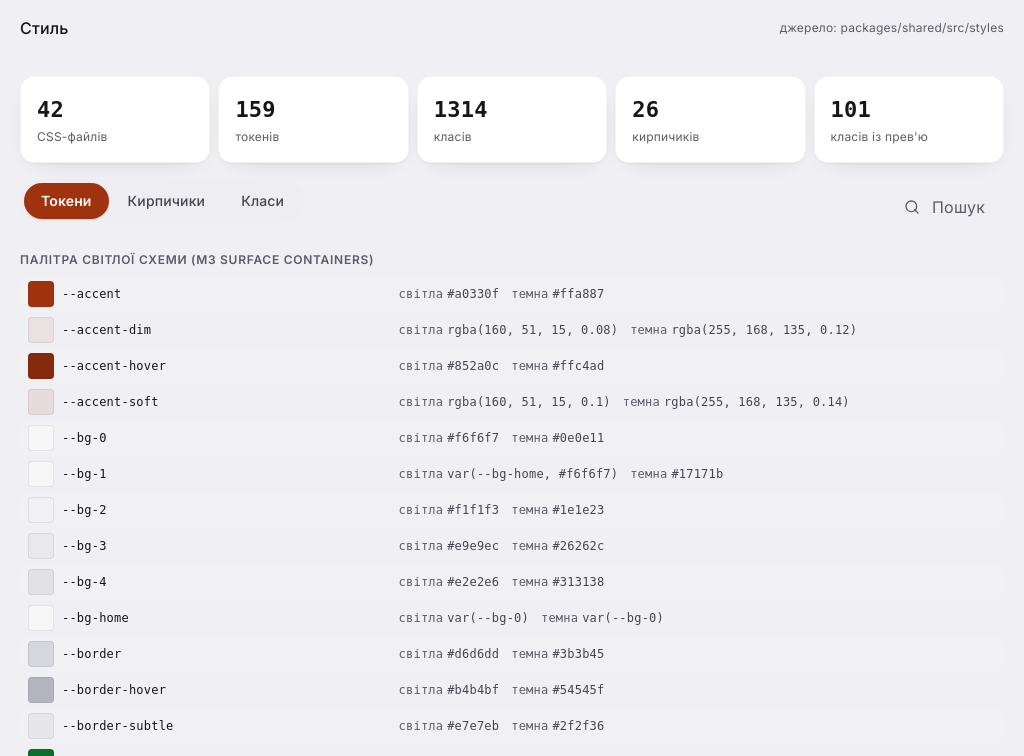
Test: сторінка «Стиль» › пошук звужує всі три списки
Check: the text "токенів" is shown, box [235,129,279,144]
Note: `--sp-4` є токеном і не є частиною жодного класу.
Type "--sp-4" into the search field named "Пошук по інвентарю вигляду". click: [964, 207]
box: [924,195,1004,219]
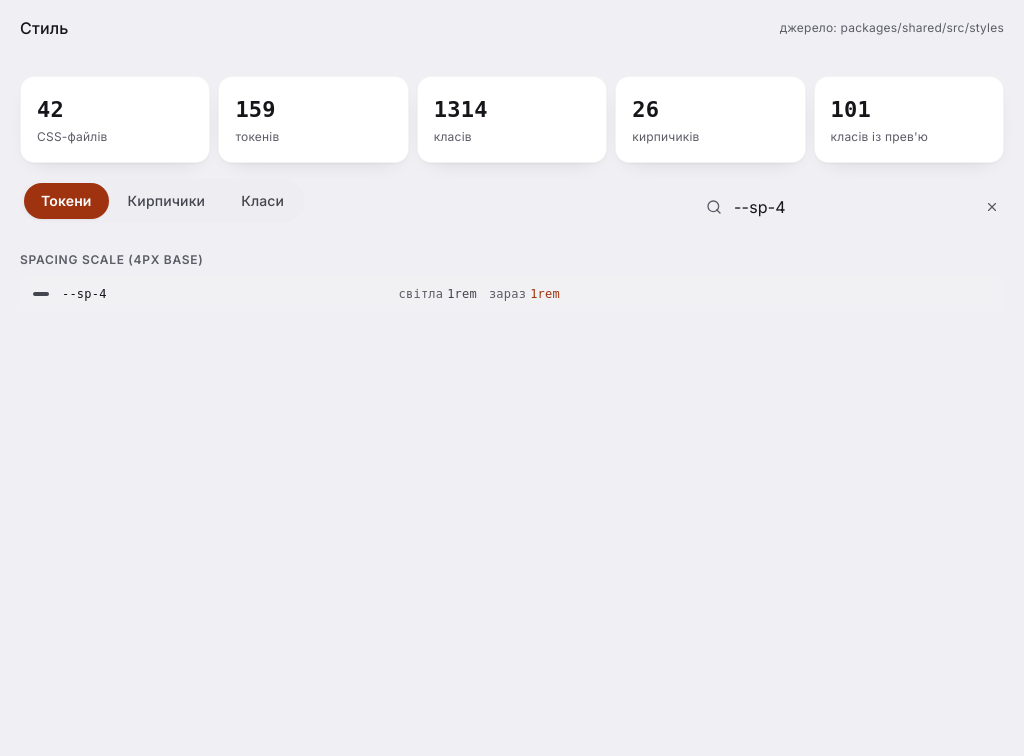
Check: the text "--sp-4" is shown, box [62,287,107,301]
Note: У класах такого імені немає — список порожній, а не весь.
Click the tab "Класи". click: [263, 201]
box: [224,183,301,219]
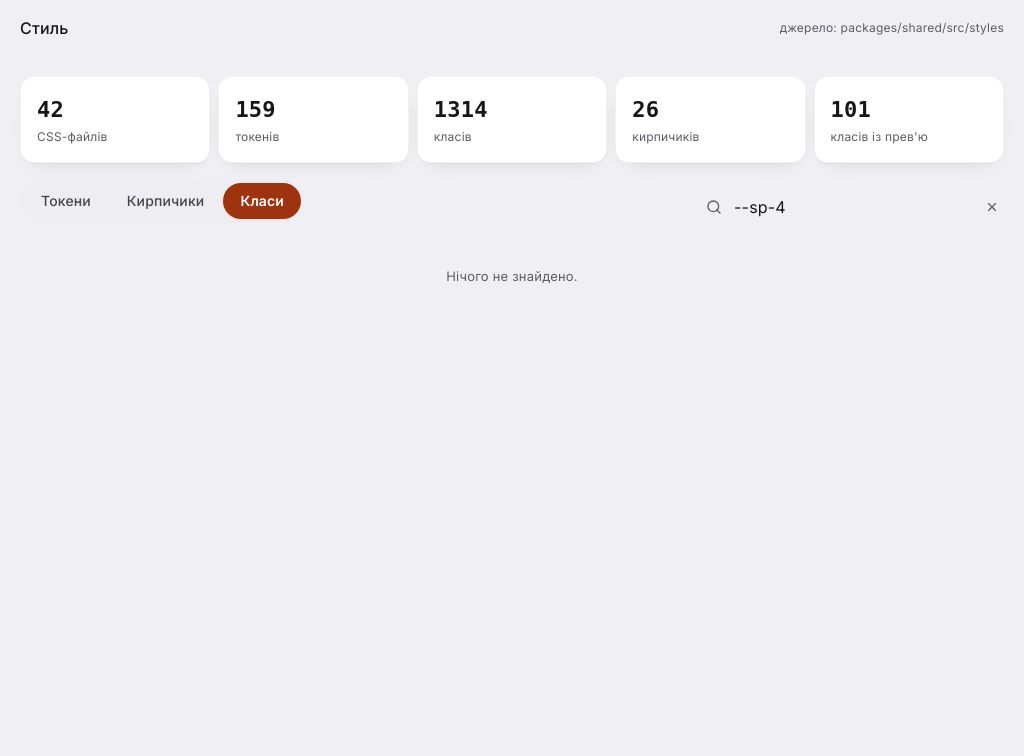
Check: the text "Нічого не знайдено." is shown, box [446,268,578,284]
Note: А клас знаходиться в своєму файлі — разом із ним.
Replace the text in the search field named "Пошук по інвентарю вигляду" with "wb-btn-primary". click: [851, 207]
box: [726,195,976,219]
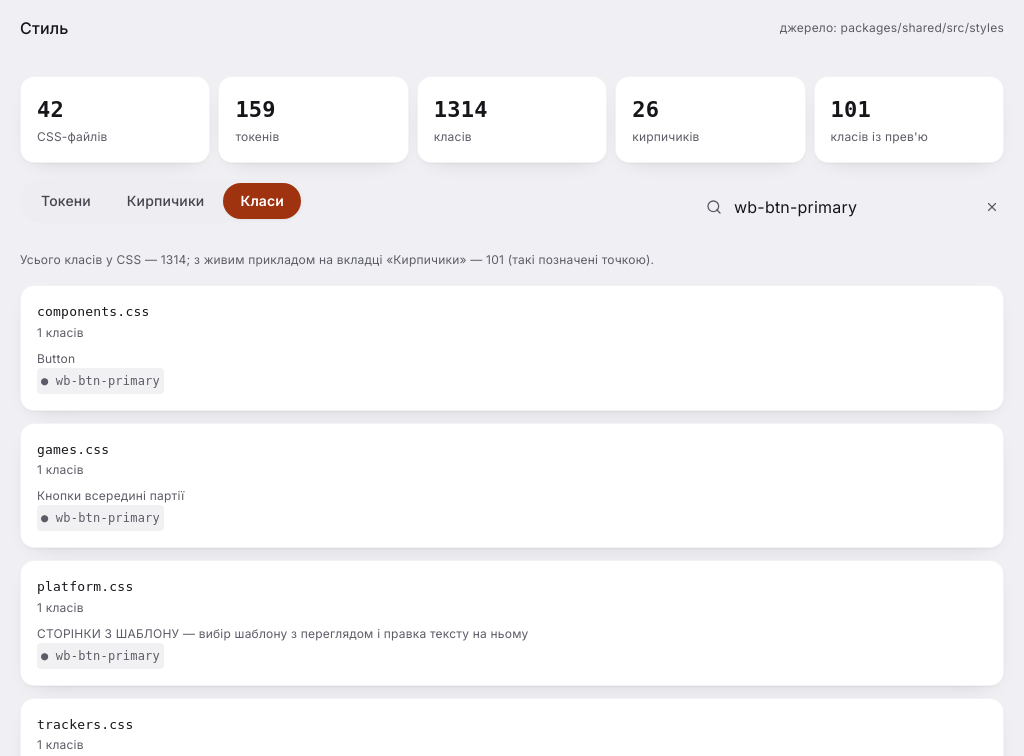
Check: the text "components.css" is shown, box [37,304,150,319]
Replace the text in the search field named "Пошук по інвентарю вигляду" with "zzz-нічого". click: [851, 207]
box: [726,195,976,219]
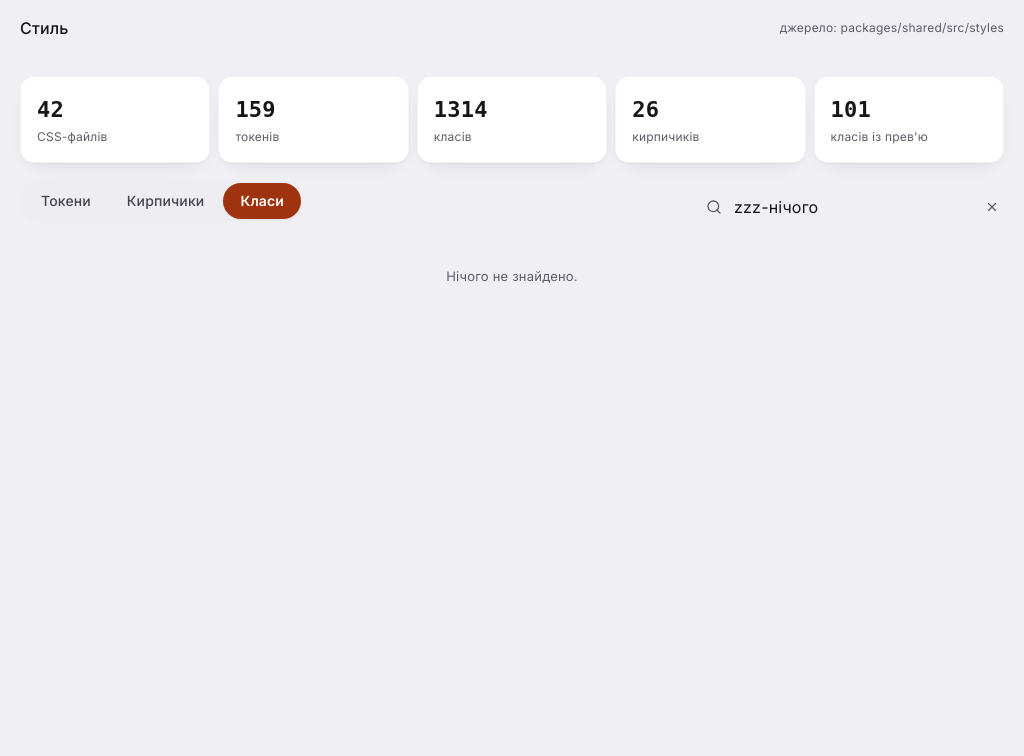
Check: the text "Нічого не знайдено." is shown, box [446,268,578,284]
